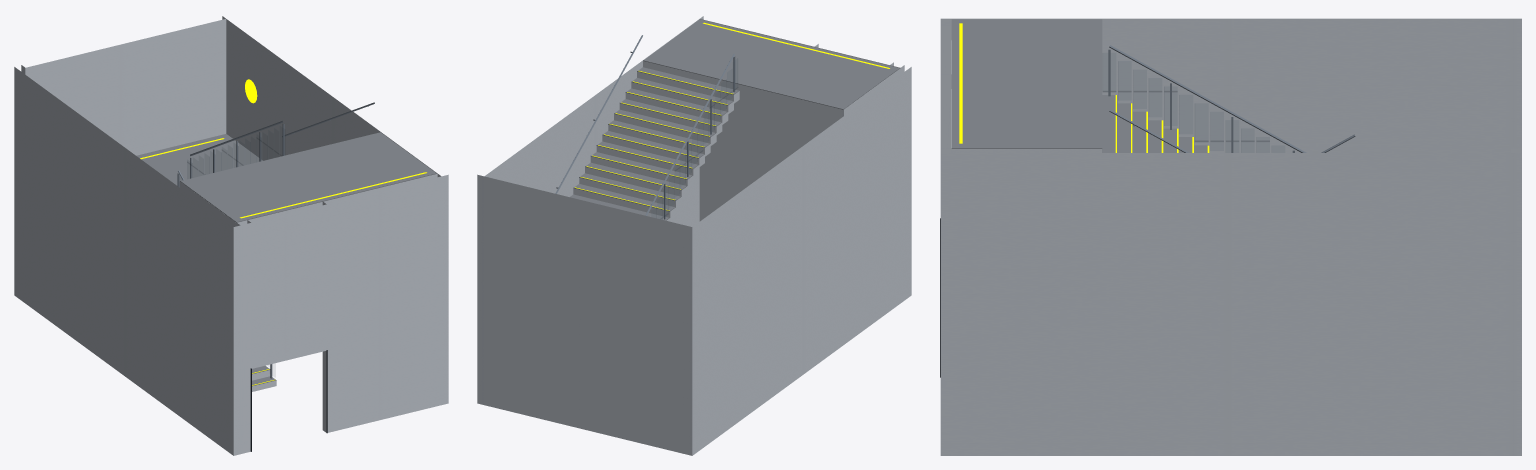
File: tt_stair_core_b.glb
3 renders of one model, left to right at view 1: azimuth 30°, elevation 25°; view 2: azimuth 150°, elevation 25°; view 3: azimuth 270°, elevation 25°, orthographic. The views are drawn at different scales.
Parts seen in each view (by area): view 1: Core_Walls, Front_Wall, Top_Landing_Slate, Mid_Landing_Slate, Top_Landing, Court_Line_Landing; view 2: Core_Walls, Top_Landing_Slate, Flight2_Modules, Front_Wall, Treads_Slate, Top_Landing, Nosing_Emergency, Guard_Cap_Rail; view 3: Core_Walls, Top_Landing_Slate, Treads_Slate, Front_Wall, Guard_Cap_Rail, Top_Landing.
Part boxes in pixels (bbox=[...]): Core_Walls: bbox=[14, 16, 448, 455]; Front_Wall: bbox=[236, 176, 441, 453]; Top_Landing_Slate: bbox=[180, 132, 437, 222]; Mid_Landing_Slate: bbox=[136, 134, 262, 185]; Top_Landing: bbox=[179, 174, 437, 226]; Court_Line_Landing: bbox=[140, 138, 426, 218]; Core_Walls: bbox=[477, 16, 911, 455]; Top_Landing_Slate: bbox=[643, 19, 899, 109]; Flight2_Modules: bbox=[573, 71, 739, 221]; Front_Wall: bbox=[699, 19, 904, 221]; Treads_Slate: bbox=[570, 67, 739, 220]; Top_Landing: bbox=[643, 61, 900, 119]; Nosing_Emergency: bbox=[575, 71, 733, 210]; Guard_Cap_Rail: bbox=[645, 53, 734, 215]; Core_Walls: bbox=[940, 18, 1521, 455]; Top_Landing_Slate: bbox=[951, 19, 1102, 148]; Treads_Slate: bbox=[1102, 95, 1209, 152]; Front_Wall: bbox=[940, 25, 951, 152]; Guard_Cap_Rail: bbox=[1109, 45, 1306, 152]; Top_Landing: bbox=[951, 40, 1101, 152].
Size of what is drawn, in the model's own units: 6 by 6.95 by 10.61.
6 materials, 4 textured.
